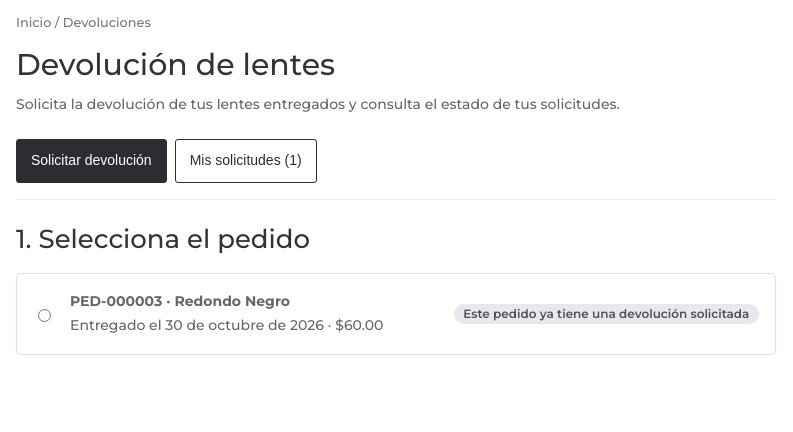
Test case: ReturnsPage › A2 / RN4: un pedido con devolución en proceso no deja solicitar
Click the radio button labelled "PED-000003" at [44, 315], box [38,309,51,322]
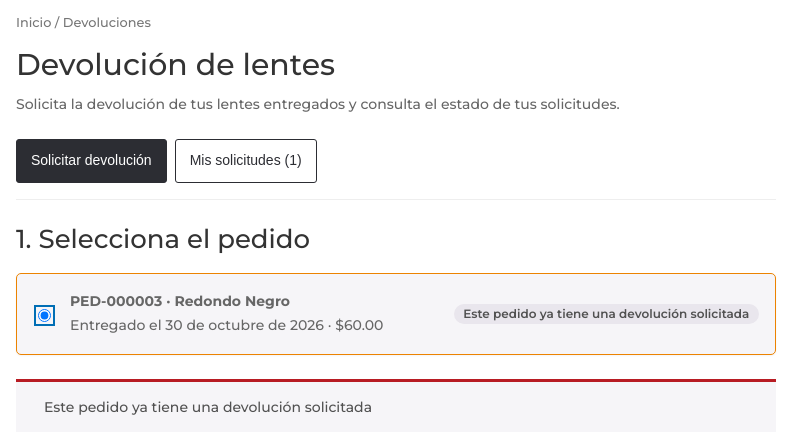
Expected: the message reads "Este pedido ya tiene una devolución solicitada", [44,398,372,416]
